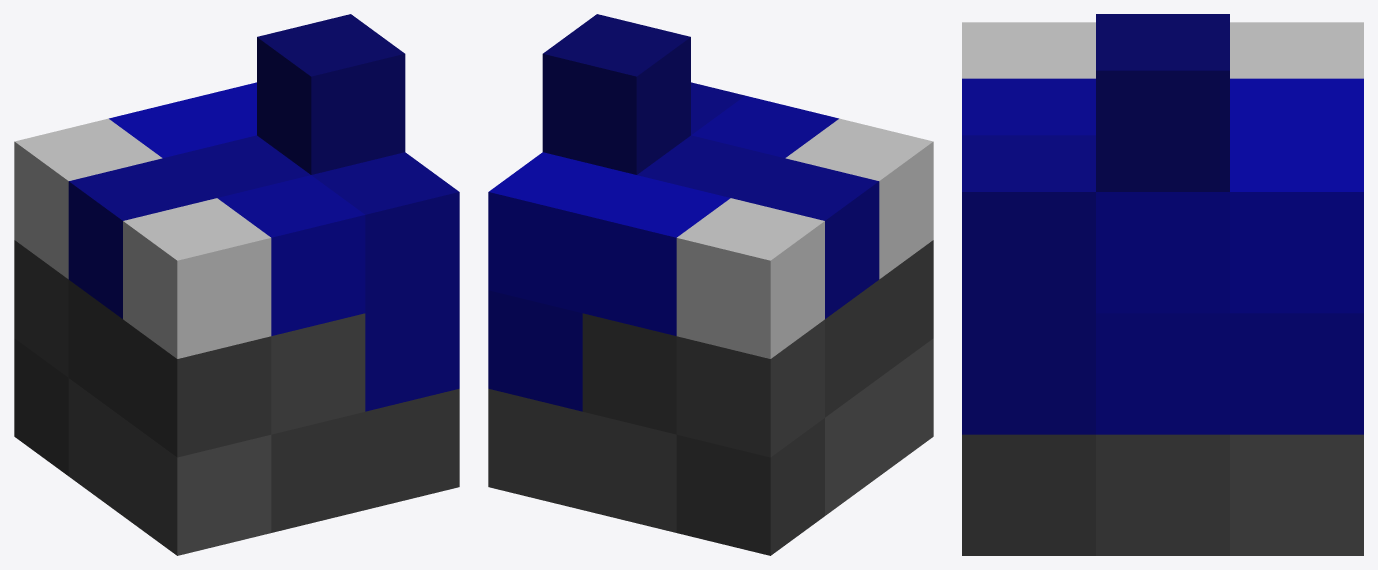
Rendered from Pez Pequeñito-2.obj.
The picture shows the model from 3 angles, left to right: view 1: azimuth 30°, elevation 25°; view 2: azimuth 150°, elevation 25°; view 3: azimuth 270°, elevation 25°; orthographic projection. The views are drawn at different scales.
Bounding box in the file's own units: 0.3 × 0.4 × 0.3.
1 material, 1 textured.
